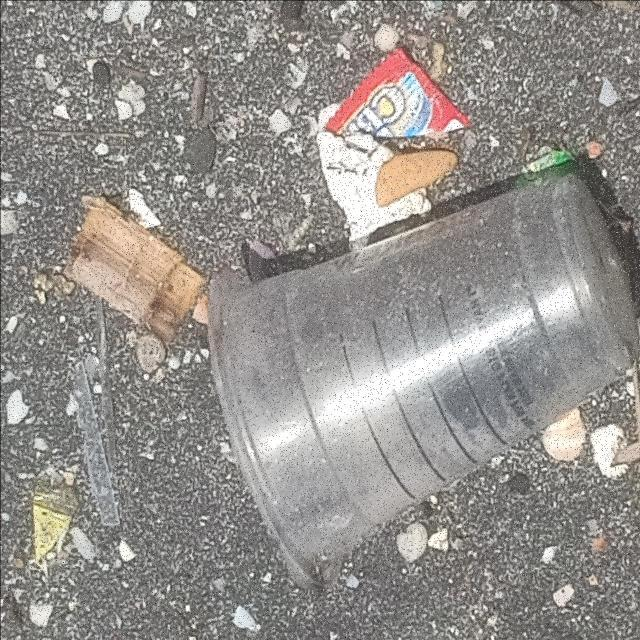plastic_waste: (205, 170, 640, 596), (323, 43, 474, 167), (33, 474, 80, 578), (509, 148, 581, 193)
wood_waste: (62, 194, 207, 349)
